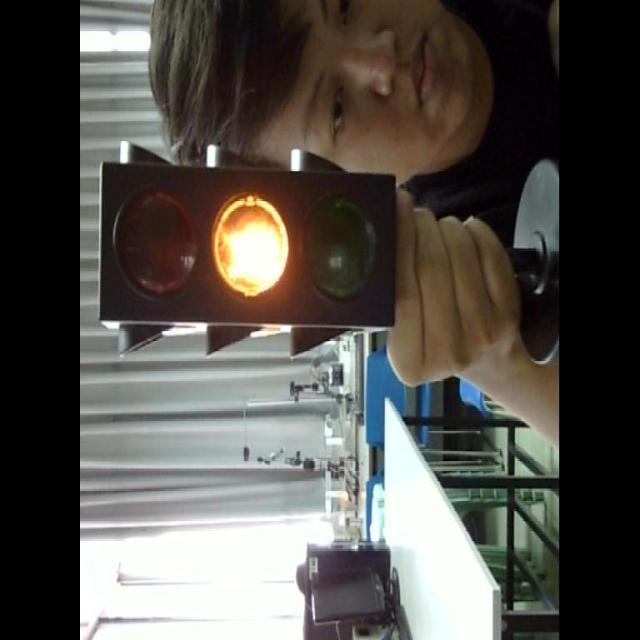yellow_light: (98, 162, 393, 325)
